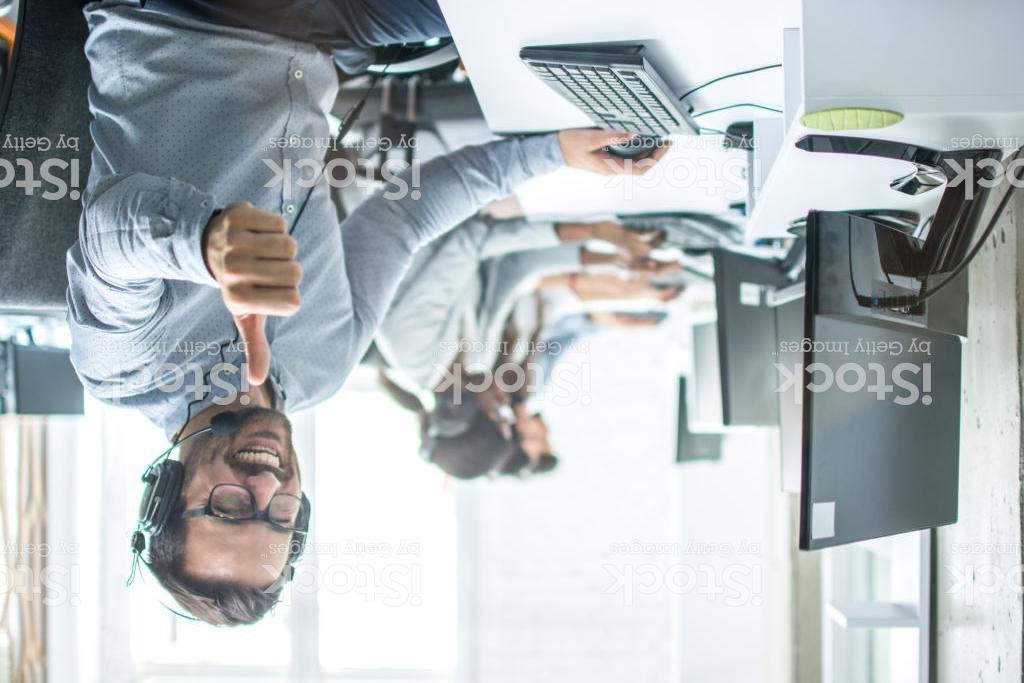thumbsdown: (220, 201, 305, 385)
